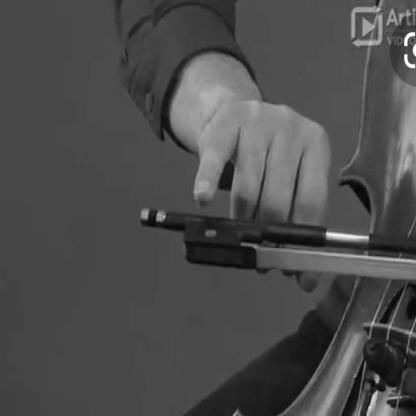bad: (172, 74, 354, 312)
